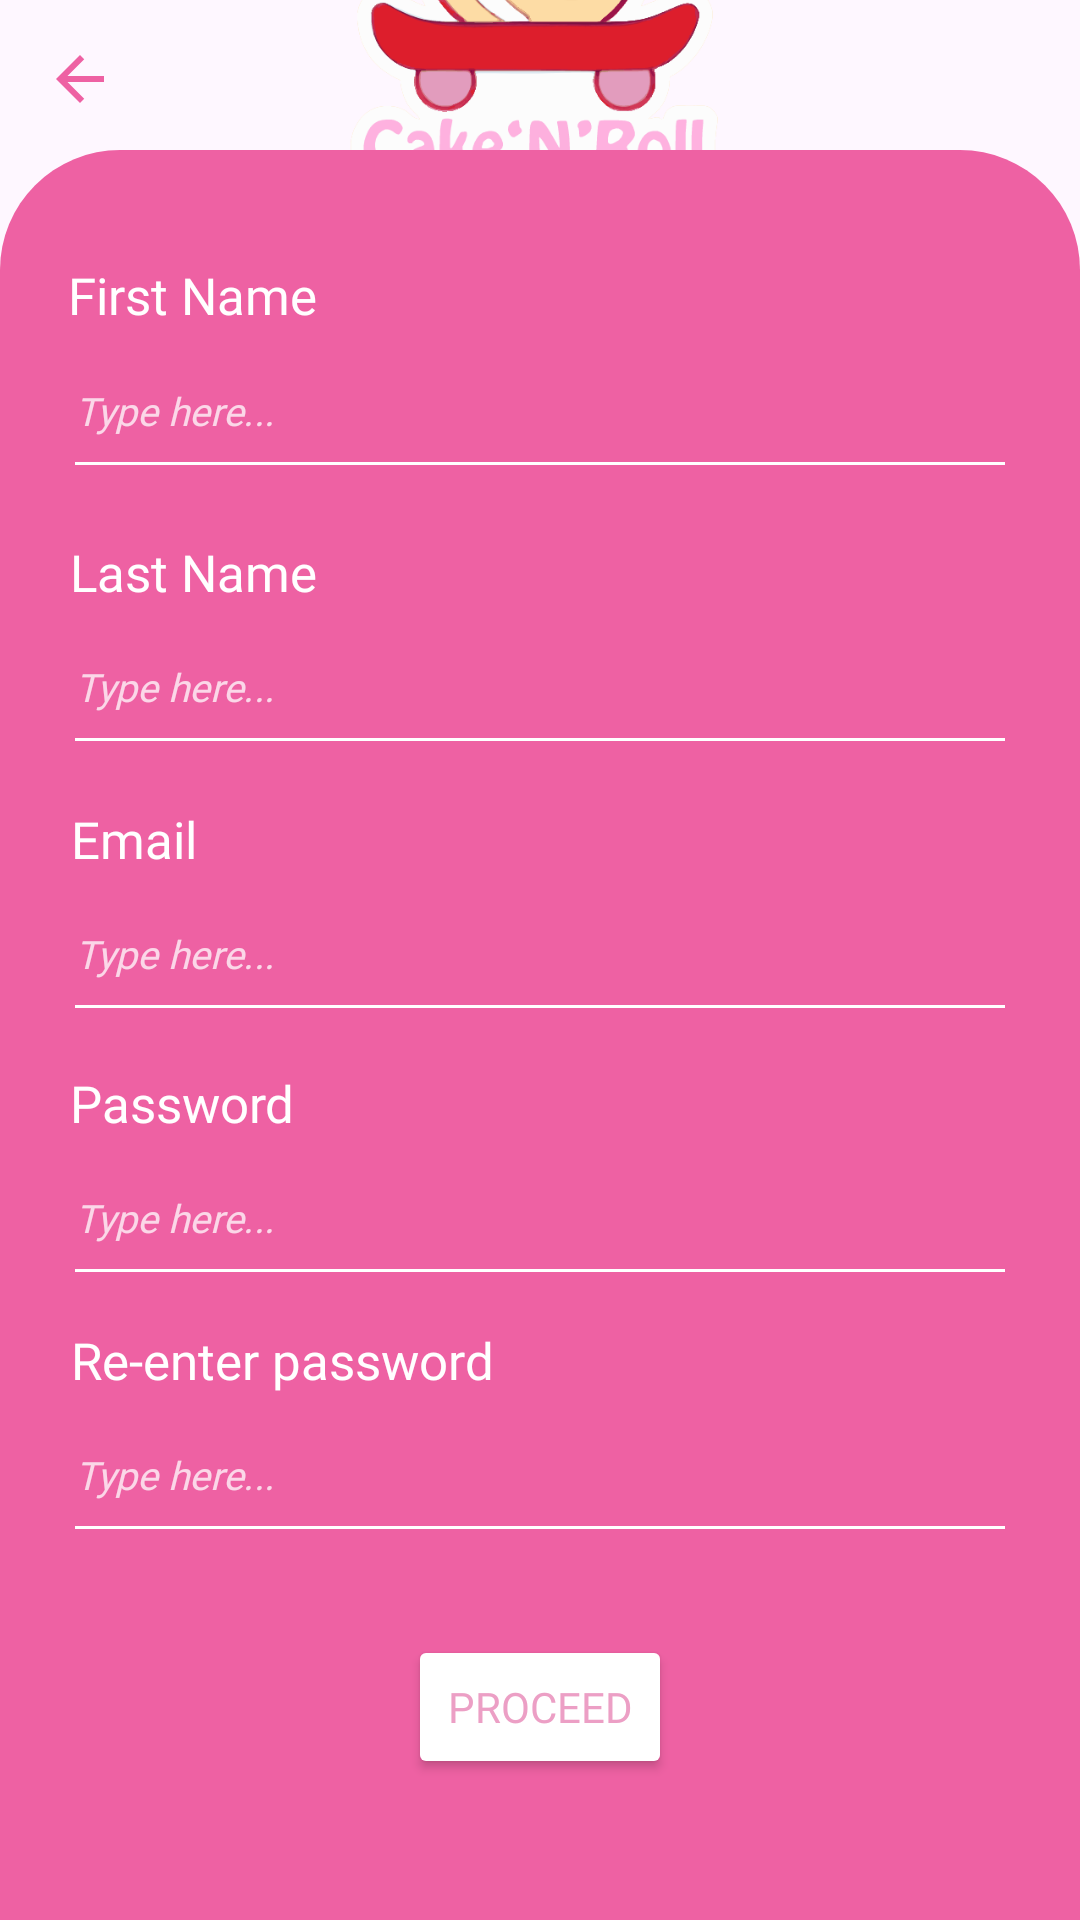

Point at icon controls on the screen. Image size 1080px×1920px, points as (x=x, y=y).
arrow back: (x=80, y=79)
